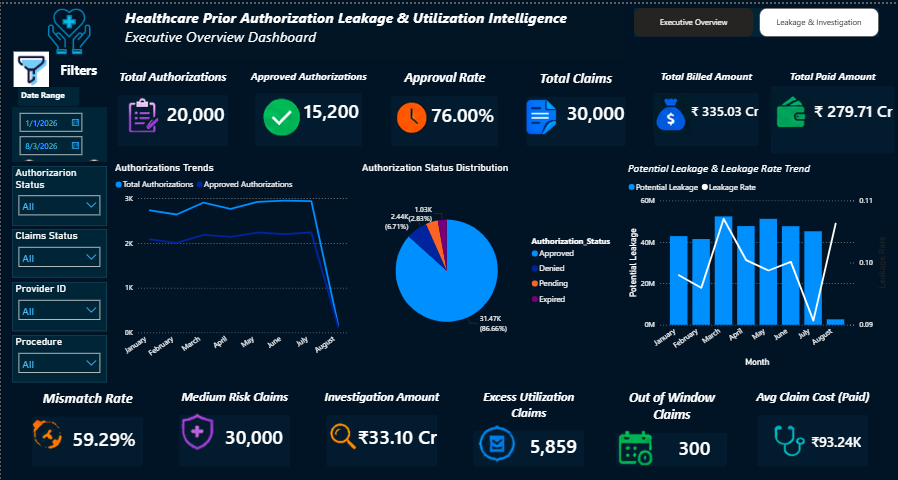

The page's visual inventory and layout, read from the dashboard file:
{"tool":"powerbi","page":{"name":"Executive Overview","canvas":[1500,800],"ordinal":0},"visuals":[{"type":"textbox","box":[200.9,0,838.2,90.8],"z":0},{"type":"image","box":[50.9,6.9,123.9,77.1],"z":1000},{"type":"cardVisual","title":"Total Authorizations","fields":{"Data":["KPI Measures.Total Authorizations Display"]},"box":[177.2,107.8,219.2,146.2],"z":2000},{"type":"cardVisual","title":"Total Billed Amount","fields":{"Data":["KPI Measures.Total Billed Amount Cr"]},"box":[1071,108.1,208.1,146.8],"z":3000},{"type":"cardVisual","title":"Approval Rate","fields":{"Data":["KPI Measures.Approval Rate %"]},"box":[633.9,108.1,212.9,146.8],"z":4000},{"type":"cardVisual","title":"Total Claims","fields":{"Data":["KPI Measures.Total Claims"]},"box":[858.1,108.1,200,146.8],"z":5000},{"type":"cardVisual","title":"Approved Authorizations","fields":{"Data":["KPI Measures.Approved Authorizations"]},"box":[406.5,108.1,212.9,146.8],"z":6000},{"type":"cardVisual","title":"Total Paid Amount","fields":{"Data":["KPI Measures.Total Paid Amount Cr"]},"box":[1279,108.1,216.1,146.8],"z":7000},{"type":"lineChart","title":"Authorizations Trends","fields":{"Y":["KPI Measures.Total Authorizations","KPI Measures.Approved Authorizations"],"Category":["Authorizations.Approved_Start_Date.Variation.Date Hierarchy.Month"]},"box":[185,261.7,400,348.3],"z":8000},{"type":"pieChart","title":"Authorization Status Distribution","fields":{"Category":["Authorizations.Authorization_Status"],"Y":["CountNonNull(Authorizations.Authorization_Status)"]},"box":[596.7,261.7,428.3,346.7],"z":9000},{"type":"cardVisual","title":"Mismatch Rate","fields":{"Data":["KPI Measures.Mismatch %"]},"box":[35.5,641.9,219.4,146.8],"z":10000},{"type":"cardVisual","title":"Medium Risk Claims","fields":{"Data":["KPI Measures.High Risk Claims"]},"box":[280.6,641.9,219.4,146.8],"z":11000},{"type":"cardVisual","title":"Investigation Amount","fields":{"Data":["KPI Measures.Investigation Amount Display"]},"box":[524.2,641.9,219.4,146.8],"z":12000},{"type":"cardVisual","title":"Excess Utilization Claims","fields":{"Data":["KPI Measures.Excess Utilization Claims"]},"box":[769.4,641.9,219.4,146.8],"z":13000},{"type":"cardVisual","title":"Out of Window Claims","fields":{"Data":["KPI Measures.Out of Window Claims"]},"box":[1008.1,641.9,219.4,146.8],"z":14000},{"type":"cardVisual","title":"Avg Claim Cost (Paid)","fields":{"Data":["KPI Measures.Avg Claim Cost Paid Display"]},"box":[1243.5,641.9,219.4,146.8],"z":15000},{"type":"pageNavigator","box":[1054.8,6.5,408.1,48.4],"z":16000},{"type":"slicer","title":"Authorizarion Status","fields":{"Values":["Authorizations.Authorization_Status"]},"box":[17.7,269.4,158.1,100],"z":17000},{"type":"slicer","title":"Claims Status","fields":{"Values":["Authorizations.Claims.Claim_Status"]},"box":[17.7,375.8,158.1,80.6],"z":18000},{"type":"slicer","title":"Procedure","fields":{"Values":["Authorizations.Procedure"]},"box":[17.7,551.6,158.1,79],"z":19000},{"type":"slicer","title":"Provider ID","fields":{"Values":["Authorizations.Provider_ID"]},"box":[17.7,462.9,158.1,82.3],"z":20000},{"type":"slicer","fields":{"Values":["Authorizations.Approved_Start_Date"]},"box":[17.7,171,158.1,90.3],"z":21000},{"type":"textbox","box":[29,138.7,101.6,32.3],"z":22000},{"type":"textbox","box":[85.5,90.3,88.7,48.4],"z":23000},{"type":"image","box":[20.7,77.8,60.8,60.8],"z":24000},{"type":"image","box":[201.6,137.1,66.1,88.7],"z":25000},{"type":"image","box":[406.5,143.5,125.8,82.3],"z":26000},{"type":"image","box":[648.4,146.8,69.4,79],"z":27000},{"type":"image","box":[858.1,153.2,85.5,71],"z":28000},{"type":"image","box":[1087.1,146.8,62.9,77.4],"z":29000},{"type":"image","box":[1279,135.5,74.2,88.7],"z":30000},{"type":"image","box":[51.6,687.1,61.3,71],"z":31000},{"type":"image","box":[291.9,674.2,71,83.9],"z":32000},{"type":"image","box":[543.3,693.3,53.3,60],"z":33000},{"type":"image","box":[783.3,693.3,75,93.3],"z":34000},{"type":"image","box":[1011.7,706.7,91.7,66.7],"z":35000},{"type":"image","box":[1278.3,695,63.3,63.3],"z":36000},{"type":"lineClusteredColumnComboChart","title":"Potential Leakage & Leakage Rate Trend","fields":{"Y":["KPI Measures.Potential Leakage"],"Category":["Authorizations.Approved_Start_Date.Variation.Date Hierarchy.Month"],"Y2":["KPI Measures.Leakage Rate"]},"box":[1040,261.7,440,348.3],"z":37000}]}

Visuals, with their boxes in screenshot pixels (x1, y1, x2, y2), scaled from the page's 1500x800 canvas onto the 898x480 screenshot:
textbox: {"x1": 120, "y1": 0, "x2": 622, "y2": 54}
image: {"x1": 30, "y1": 4, "x2": 105, "y2": 50}
"Total Authorizations" cardVisual: {"x1": 106, "y1": 65, "x2": 237, "y2": 152}
"Total Billed Amount" cardVisual: {"x1": 641, "y1": 65, "x2": 766, "y2": 153}
"Approval Rate" cardVisual: {"x1": 379, "y1": 65, "x2": 507, "y2": 153}
"Total Claims" cardVisual: {"x1": 514, "y1": 65, "x2": 633, "y2": 153}
"Approved Authorizations" cardVisual: {"x1": 243, "y1": 65, "x2": 371, "y2": 153}
"Total Paid Amount" cardVisual: {"x1": 766, "y1": 65, "x2": 895, "y2": 153}
"Authorizations Trends" lineChart: {"x1": 111, "y1": 157, "x2": 350, "y2": 366}
"Authorization Status Distribution" pieChart: {"x1": 357, "y1": 157, "x2": 614, "y2": 365}
"Mismatch Rate" cardVisual: {"x1": 21, "y1": 385, "x2": 153, "y2": 473}
"Medium Risk Claims" cardVisual: {"x1": 168, "y1": 385, "x2": 299, "y2": 473}
"Investigation Amount" cardVisual: {"x1": 314, "y1": 385, "x2": 445, "y2": 473}
"Excess Utilization Claims" cardVisual: {"x1": 461, "y1": 385, "x2": 592, "y2": 473}
"Out of Window Claims" cardVisual: {"x1": 604, "y1": 385, "x2": 735, "y2": 473}
"Avg Claim Cost (Paid)" cardVisual: {"x1": 744, "y1": 385, "x2": 876, "y2": 473}
pageNavigator: {"x1": 631, "y1": 4, "x2": 876, "y2": 33}
"Authorizarion Status" slicer: {"x1": 11, "y1": 162, "x2": 105, "y2": 222}
"Claims Status" slicer: {"x1": 11, "y1": 225, "x2": 105, "y2": 274}
"Procedure" slicer: {"x1": 11, "y1": 331, "x2": 105, "y2": 378}
"Provider ID" slicer: {"x1": 11, "y1": 278, "x2": 105, "y2": 327}
slicer - Authorizations.Approved_Start_Date: {"x1": 11, "y1": 103, "x2": 105, "y2": 157}
textbox: {"x1": 17, "y1": 83, "x2": 78, "y2": 103}
textbox: {"x1": 51, "y1": 54, "x2": 104, "y2": 83}
image: {"x1": 12, "y1": 47, "x2": 49, "y2": 83}
image: {"x1": 121, "y1": 82, "x2": 160, "y2": 135}
image: {"x1": 243, "y1": 86, "x2": 319, "y2": 135}
image: {"x1": 388, "y1": 88, "x2": 430, "y2": 135}
image: {"x1": 514, "y1": 92, "x2": 565, "y2": 135}
image: {"x1": 651, "y1": 88, "x2": 688, "y2": 135}
image: {"x1": 766, "y1": 81, "x2": 810, "y2": 135}
image: {"x1": 31, "y1": 412, "x2": 68, "y2": 455}
image: {"x1": 175, "y1": 405, "x2": 217, "y2": 455}
image: {"x1": 325, "y1": 416, "x2": 357, "y2": 452}
image: {"x1": 469, "y1": 416, "x2": 514, "y2": 472}
image: {"x1": 606, "y1": 424, "x2": 661, "y2": 464}
image: {"x1": 765, "y1": 417, "x2": 803, "y2": 455}
"Potential Leakage & Leakage Rate Trend" lineClusteredColumnComboChart: {"x1": 623, "y1": 157, "x2": 886, "y2": 366}
